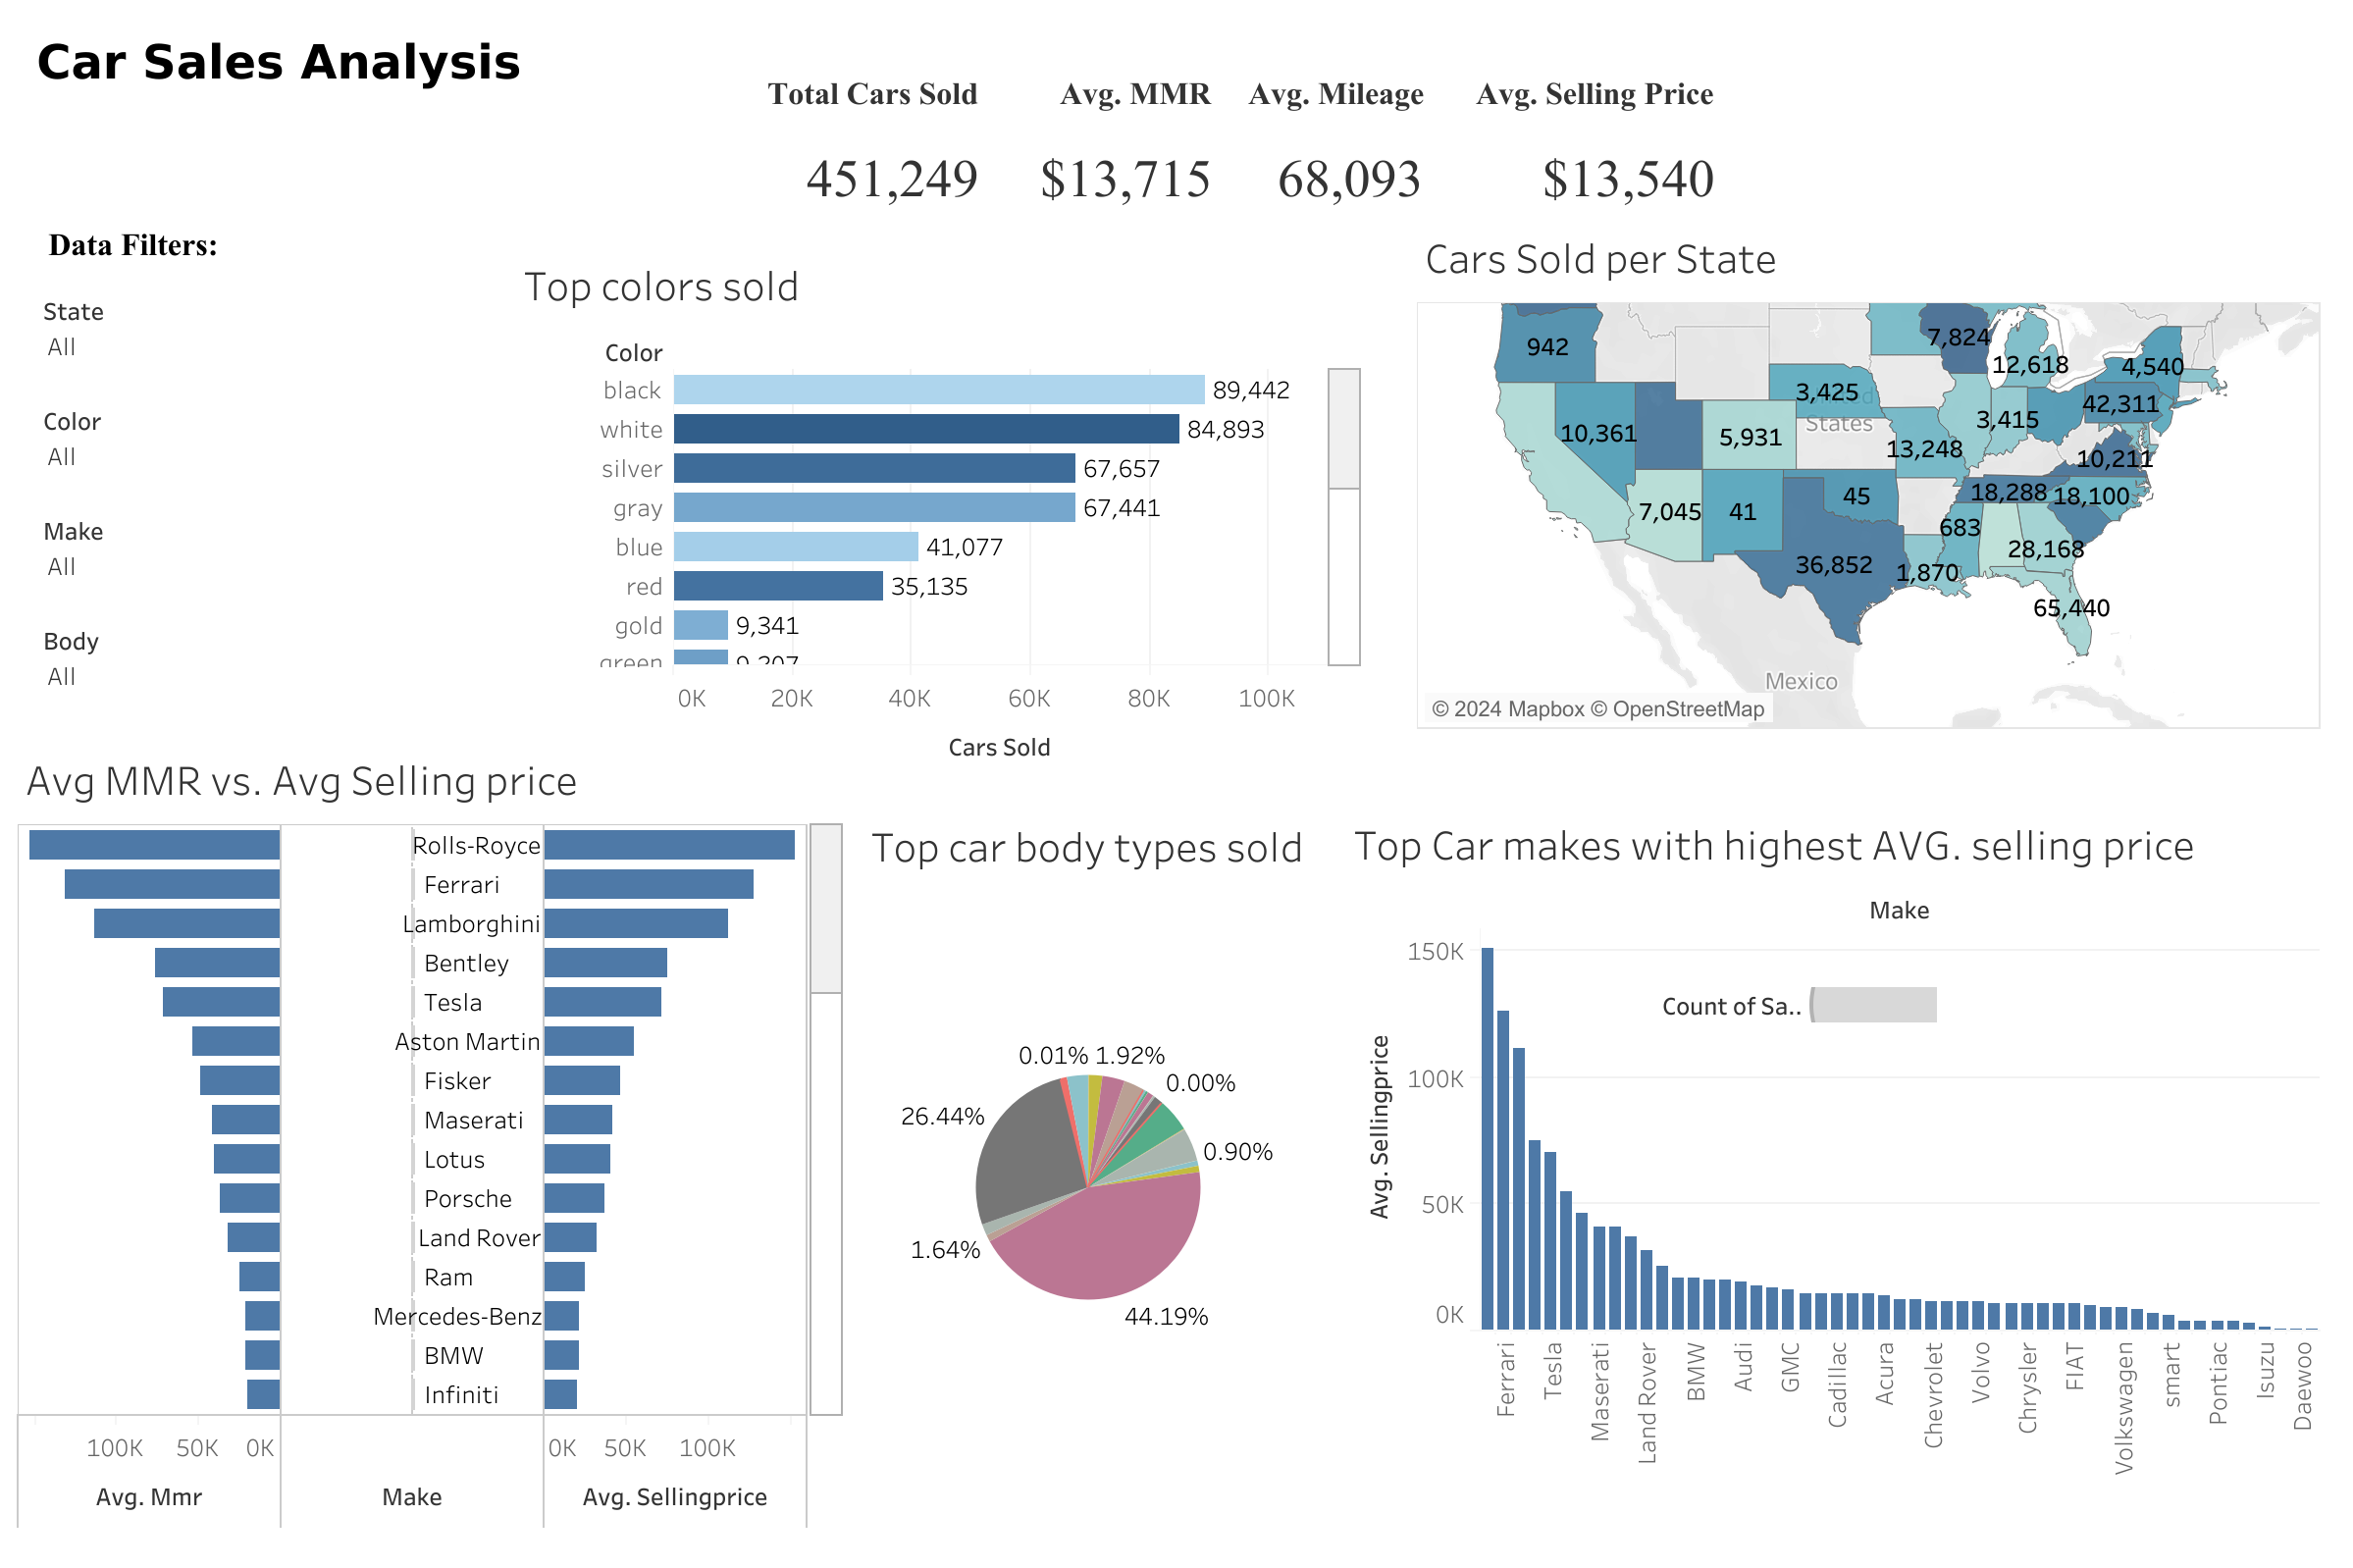

The dashboard page shown, as its layout file describes it:
{"tool":"tableau","page":{"name":"Dashboard 1","canvas":[1000,1000],"units":"permille","ordinal":0},"visuals":[{"type":"text","box":[13.3,12.5,237.5,52.5]},{"type":"worksheet","title":"Sheet 10","mark":"Automatic","box":[289.2,42.5,133.3,116.2]},{"type":"worksheet","title":"Sheet 8","mark":"Automatic","box":[422.5,42.5,99.2,116.2]},{"type":"worksheet","title":"Sheet 7","mark":"Automatic","box":[521.7,42.5,90,116.2]},{"type":"worksheet","title":"Sheet 6","mark":"Automatic","box":[611.7,42.5,160,116.2]},{"type":"worksheet","title":"Sheet 12","mark":"Multipolygon","box":[598.3,133.8,390.8,336.2]},{"type":"text","box":[18.3,142.5,104.2,26.2]},{"type":"worksheet","title":"Sheet 3","mark":"Automatic","rows":["color"],"cols":["saledate"],"box":[215.8,151.2,365.8,348.8]},{"type":"filter","title":"Sheet 12","param":"[federated.1oycm6x1a298r31506zfx14ezuf9].[none:state:nk]","box":[15,180,194.2,65]},{"type":"filter","title":"Sheet 3","param":"[federated.1oycm6x1a298r31506zfx14ezuf9].[none:color:nk]","box":[15,245,194.2,65]},{"type":"filter","title":"Sheet 2","param":"[federated.1oycm6x1a298r31506zfx14ezuf9].[none:make:nk]","box":[15,310,194.2,65]},{"type":"filter","title":"Sheet 4","param":"[federated.1oycm6x1a298r31506zfx14ezuf9].[none:body:nk]","box":[15,375,194.2,65]},{"type":"worksheet","title":"Sheet 5","mark":"Automatic","rows":["make"],"cols":["mmr","Calculation_60657859966611456","sellingprice"],"box":[7.5,471.2,350.8,502.5]},{"type":"worksheet","title":"Sheet 2","mark":"Automatic","rows":["sellingprice"],"cols":["make"],"box":[568.3,507.5,420,470]},{"type":"worksheet","title":"Sheet 4","mark":"Pie","box":[366.7,513.8,190.8,431.2]},{"type":"legend","title":"Sheet 4","param":"[federated.1oycm6x1a298r31506zfx14ezuf9].[cnt:saledate:qk]","box":[705.8,627.5,116.7,47.5]}]}

Visuals, with their boxes on the dashboard's canvas, which has no fixed pixel size, in thousandths of its width and height (x1, y1, x2, y2). These are canvas units, not pixel positions in the 2353x1568 screenshot, which may show the page scaled, cropped or inside an application window:
text: 13,12,251,65
"Sheet 10" worksheet: 289,42,422,159
"Sheet 8" worksheet: 422,42,522,159
"Sheet 7" worksheet: 522,42,612,159
"Sheet 6" worksheet: 612,42,772,159
"Sheet 12" worksheet (Multipolygon marks): 598,134,989,470
text: 18,142,122,169
"Sheet 3" worksheet: 216,151,582,500
"Sheet 12" filter: 15,180,209,245
"Sheet 3" filter: 15,245,209,310
"Sheet 2" filter: 15,310,209,375
"Sheet 4" filter: 15,375,209,440
"Sheet 5" worksheet: 8,471,358,974
"Sheet 2" worksheet: 568,508,988,978
"Sheet 4" worksheet (Pie marks): 367,514,558,945
"Sheet 4" legend: 706,628,822,675
